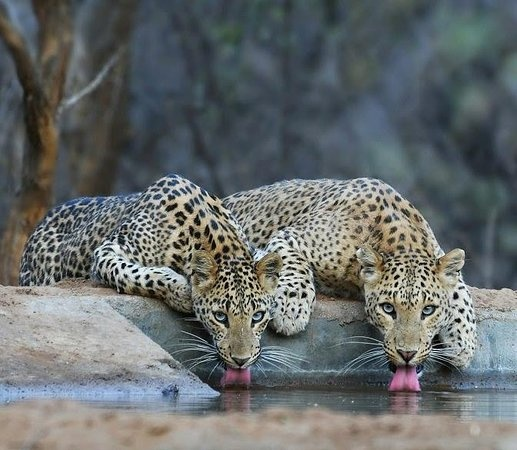leopard: (16, 168, 312, 389), (220, 173, 482, 393)
